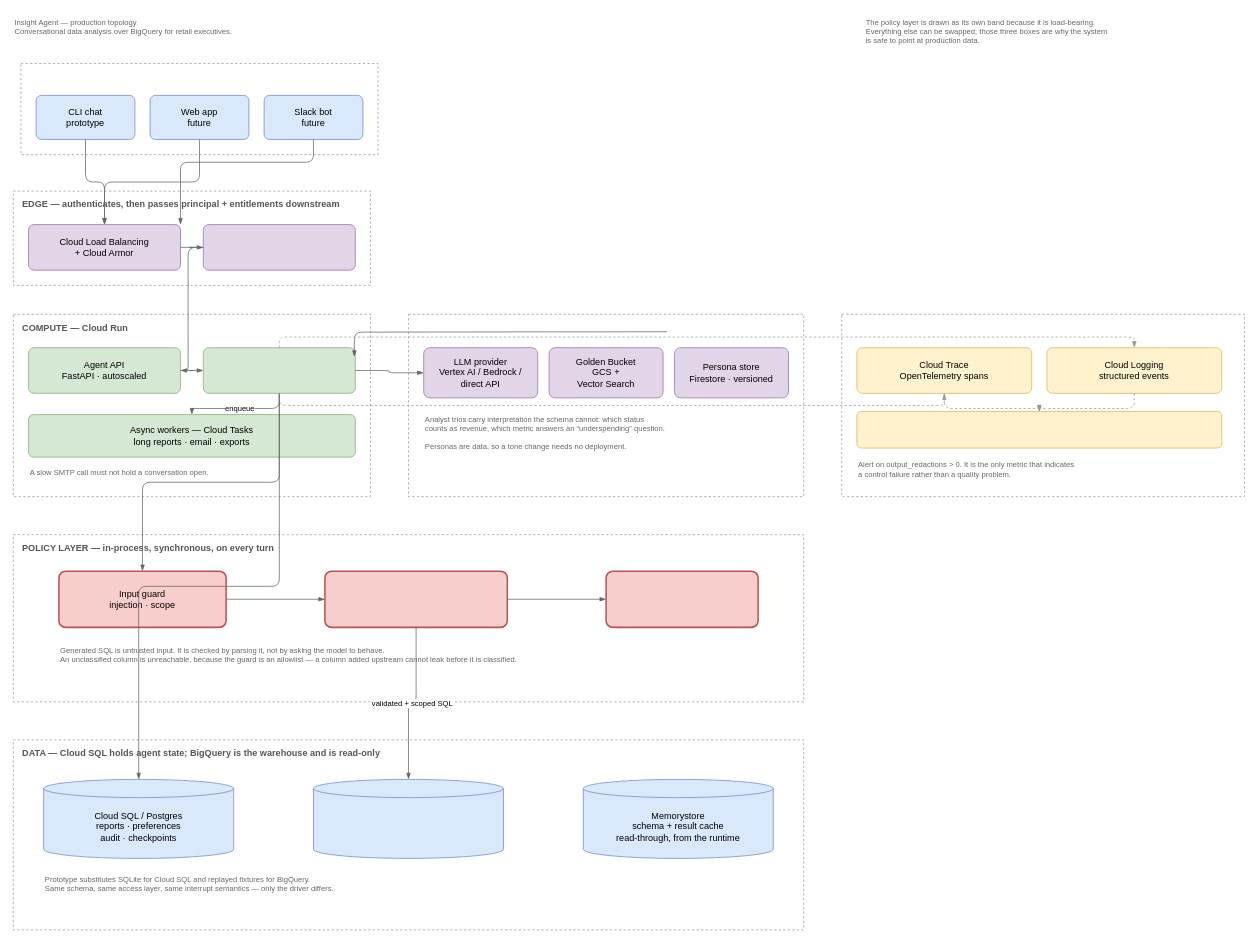
Image size: 1258x943. Some labels were removed from this diagram. The box of each missing label's shape, as (x1, y1, x2, y2) in pixels:
BigQuery thelook_ecommerce READ-ONLY: (313, 779, 504, 858)
CLIENT: (20, 63, 378, 155)
Cloud Monitoring — dashboards · alerts: (856, 411, 1222, 448)
Identity-Aware Proxy OIDC · group claims: (203, 224, 355, 270)
INTELLIGENCE: (408, 314, 804, 497)
LangGraph runtime stateful DAG: (203, 347, 355, 393)
OBSERVABILITY: (841, 314, 1244, 497)
Output guard pseudonymise · redact: (605, 570, 758, 628)
SQL guard AST validation · column allowlist per-user scope rewrite · cost gate: (324, 570, 508, 628)
